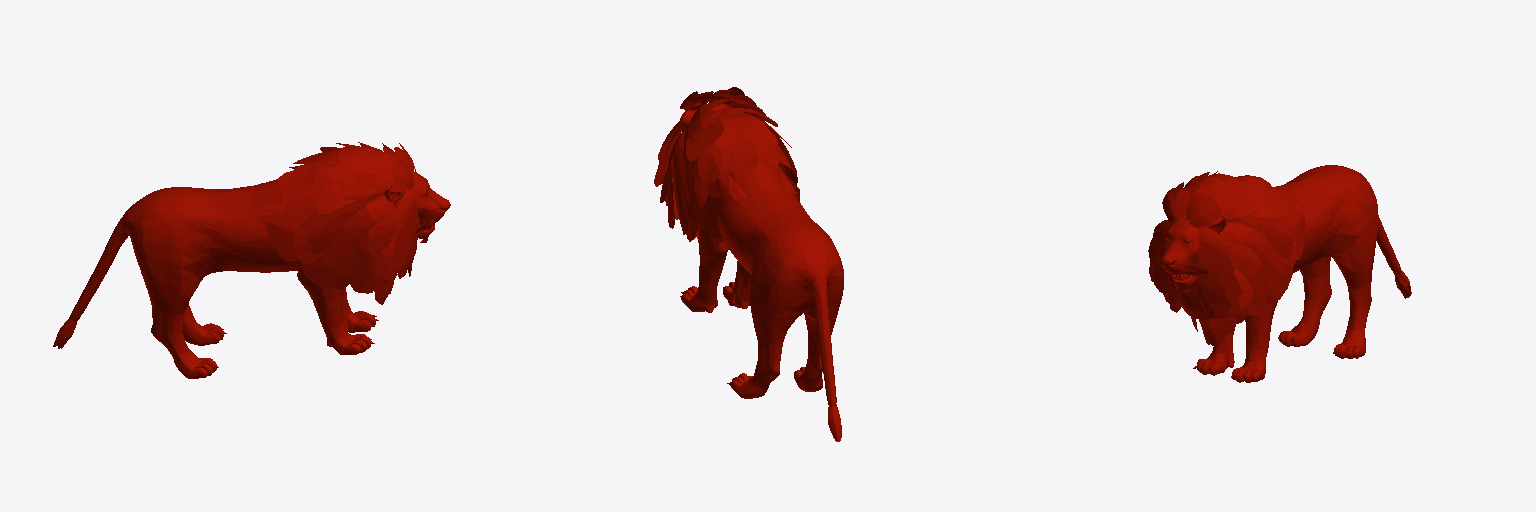
File: lion.obj
3 views of the same model, side by side, from view 1: azimuth 30°, elevation 25°; view 2: azimuth 150°, elevation 25°; view 3: azimuth 270°, elevation 25° (orthographic).
Visible parts, largest first — view 1: lion; view 2: lion; view 3: lion.
Part boxes in pixels (left/top/right/bottom): lion: left=53, top=142, right=450, bottom=378; lion: left=654, top=87, right=843, bottom=441; lion: left=1148, top=165, right=1411, bottom=382.
Bounding box in the file's own units: 8.36 × 6.6 × 6.91.